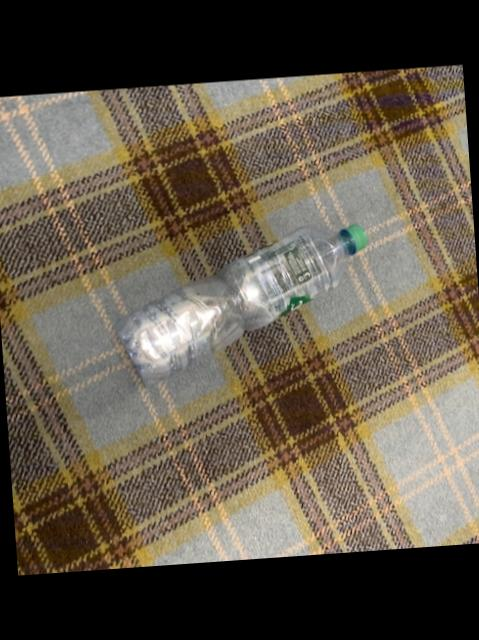plastic: (117, 225, 368, 385)
